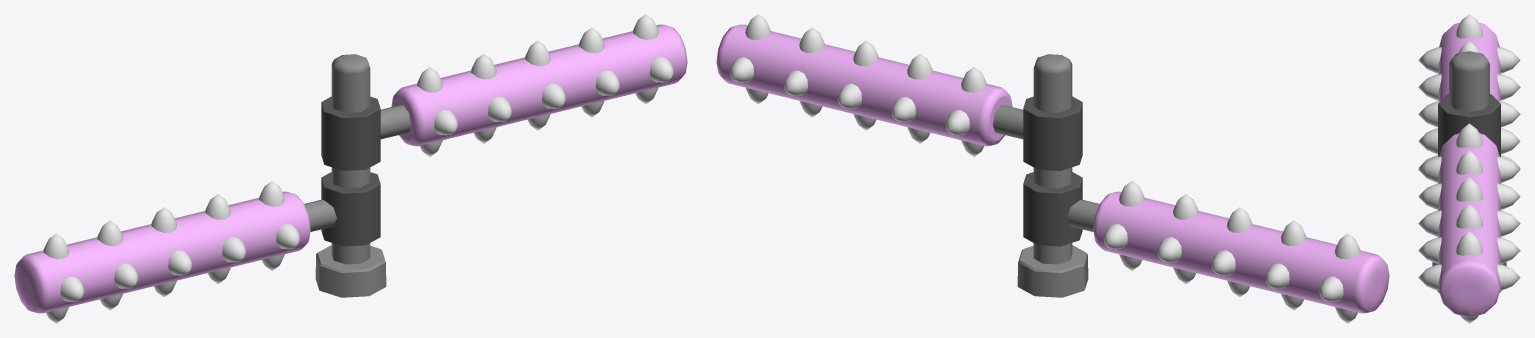
File: Obstacle_3.fbx
The picture shows the model from 3 angles, left to right: view 1: azimuth 30°, elevation 25°; view 2: azimuth 150°, elevation 25°; view 3: azimuth 270°, elevation 25°; orthographic projection. The views are drawn at different scales.
Visible parts, largest first — view 1: Quay_1, Quay_2, Truc; view 2: Quay_1, Quay_2, Truc; view 3: Quay_1, Quay_2, Truc.
Part boxes in pixels (left/top/right/bottom): Quay_1: left=321, top=14, right=687, bottom=170; Quay_2: left=14, top=172, right=380, bottom=323; Truc: left=315, top=54, right=386, bottom=297; Quay_1: left=716, top=14, right=1082, bottom=170; Quay_2: left=1023, top=172, right=1389, bottom=323; Truc: left=1017, top=54, right=1088, bottom=297; Quay_1: left=1418, top=94, right=1520, bottom=323; Quay_2: left=1418, top=14, right=1520, bottom=210; Truc: left=1432, top=51, right=1506, bottom=292.
Size of the model in its own units: 5.45 by 1.79 by 0.7274.
